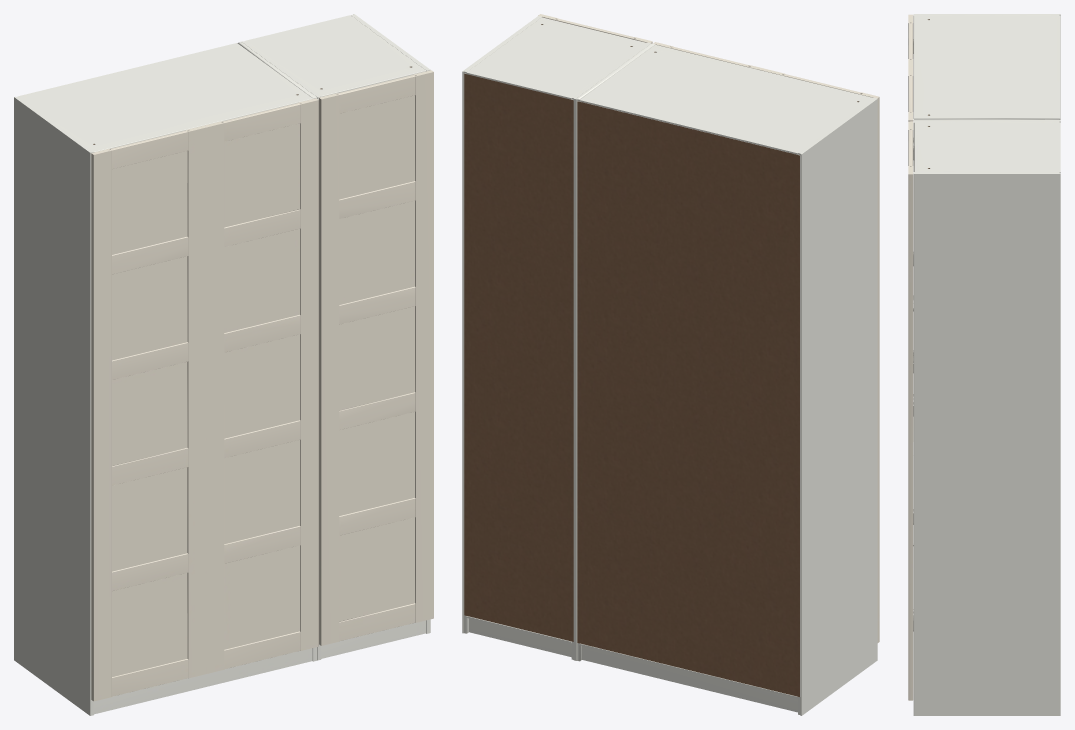
File: pax_bergsbo_szafa_19127297.glb
3 views of the same model, side by side, from view 1: azimuth 30°, elevation 25°; view 2: azimuth 150°, elevation 25°; view 3: azimuth 270°, elevation 25° (orthographic). The views are drawn at different scales.
Parts seen in each view (by area): view 1: pax_bergsbo_szafa_19127297; view 2: pax_bergsbo_szafa_19127297; view 3: pax_bergsbo_szafa_19127297.
Part boxes in pixels (left/top/right/bottom): pax_bergsbo_szafa_19127297: left=14, top=14, right=433, bottom=715; pax_bergsbo_szafa_19127297: left=462, top=14, right=879, bottom=715; pax_bergsbo_szafa_19127297: left=908, top=14, right=1060, bottom=715.
Size of the model in its own units: 1.5 by 2.36 by 0.6011.
Materials: 1 (1 with a texture image).
